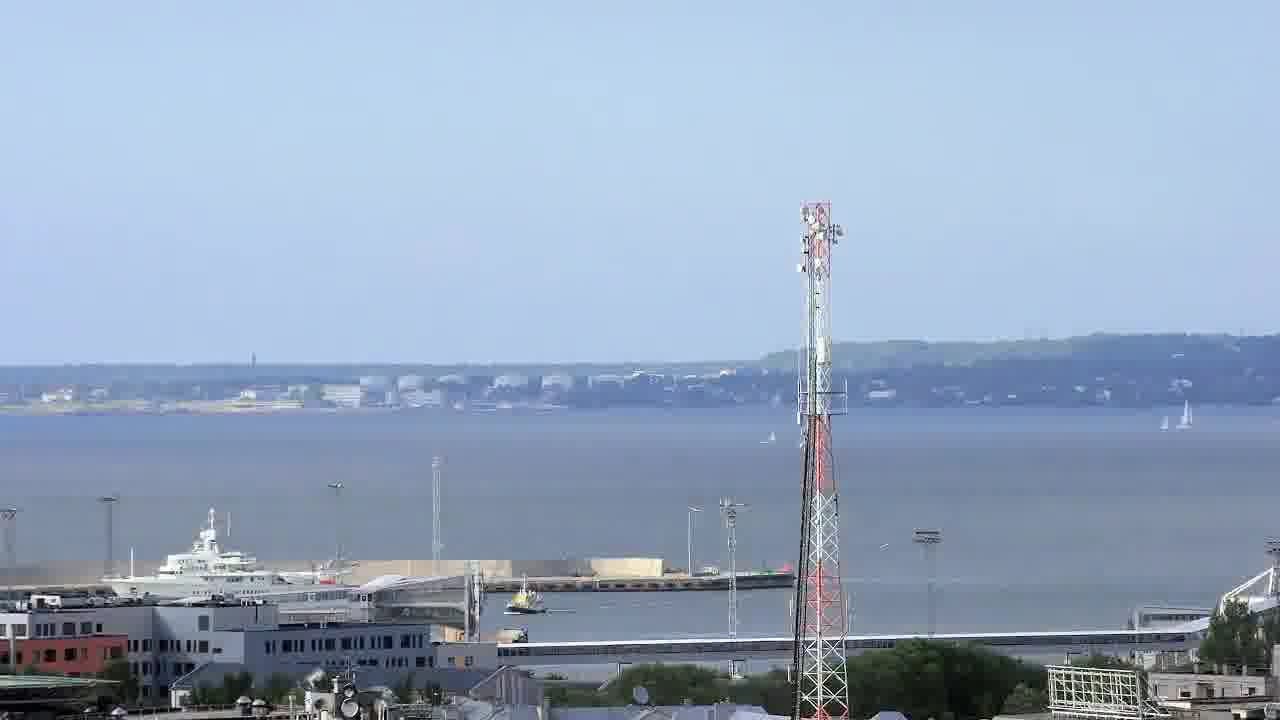type-0: (489, 565, 563, 628)
type-2: (1153, 377, 1213, 445)
type-3: (88, 507, 346, 605)
